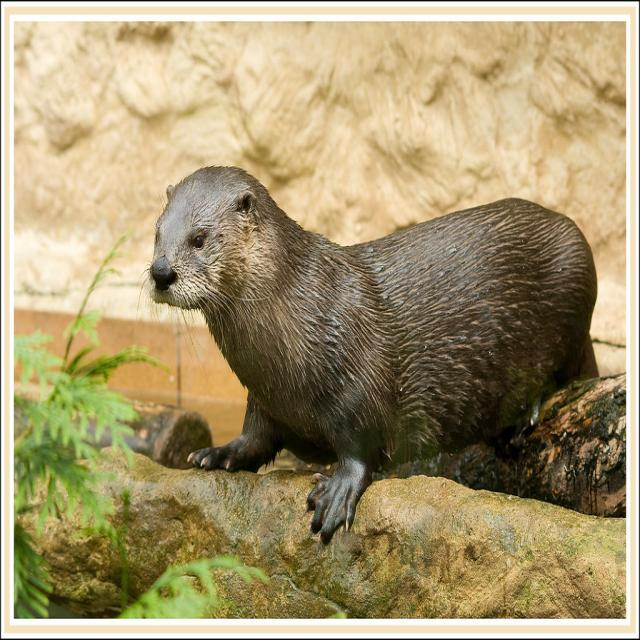otter: (148, 165, 597, 544)
